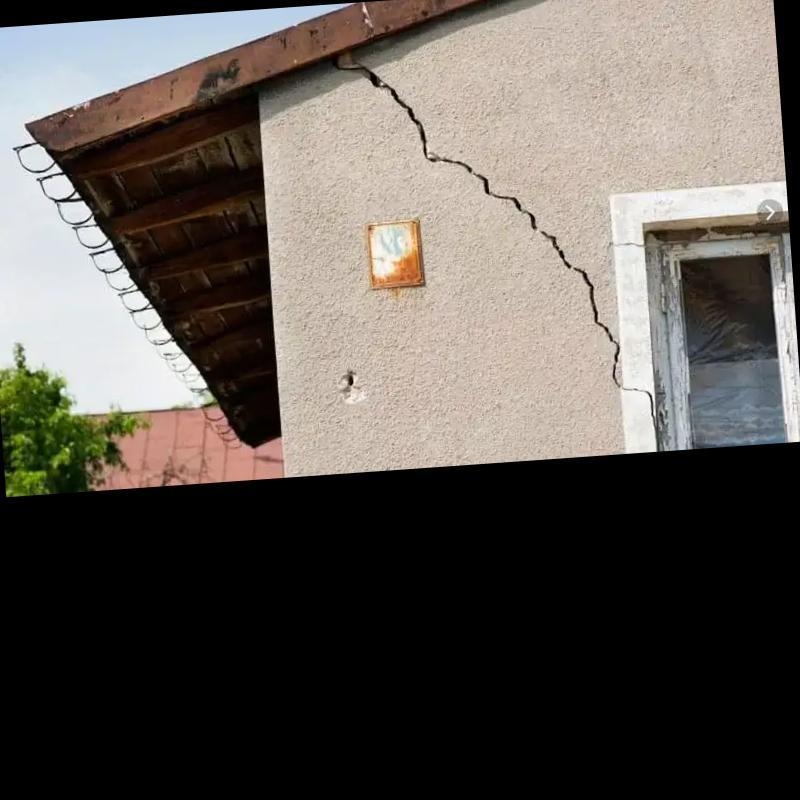pothole: (333, 59, 656, 426)
